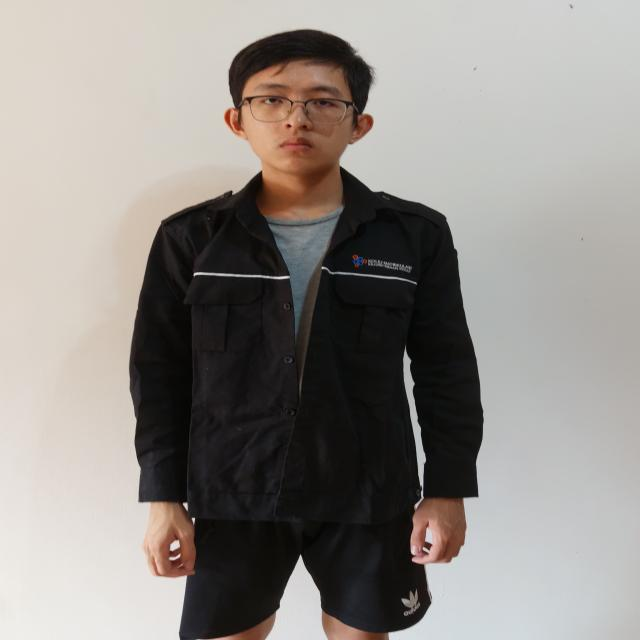person_with_labcoat: (130, 30, 482, 640)
